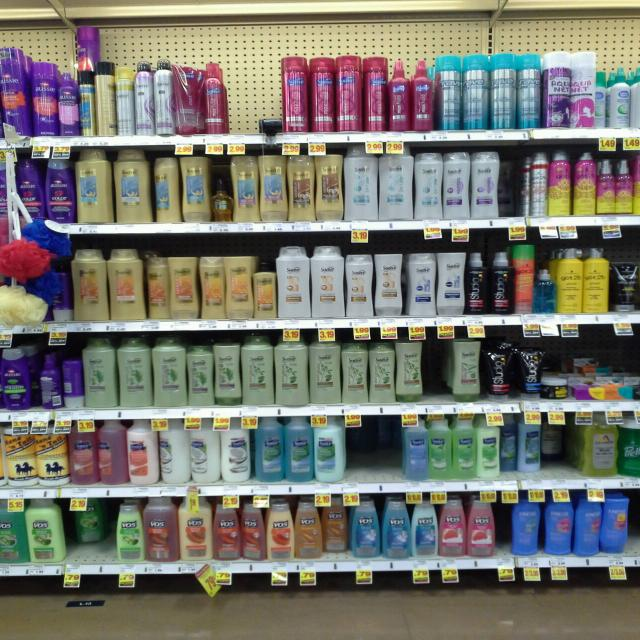empty: (216, 63, 281, 134), (349, 419, 404, 482), (421, 340, 459, 401)
